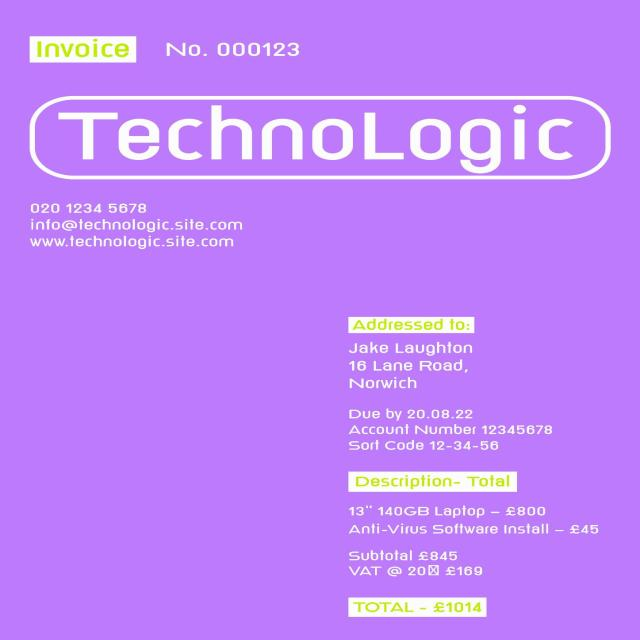paragraph: (30, 97, 606, 178), (337, 304, 568, 456), (338, 460, 611, 585), (10, 194, 266, 264), (344, 589, 500, 630), (25, 31, 141, 69), (162, 37, 306, 63)
